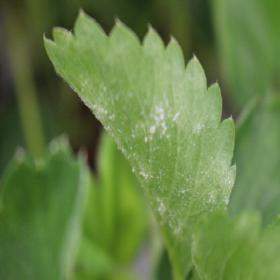Powdery Mildew Leaf: (43, 7, 237, 279)
